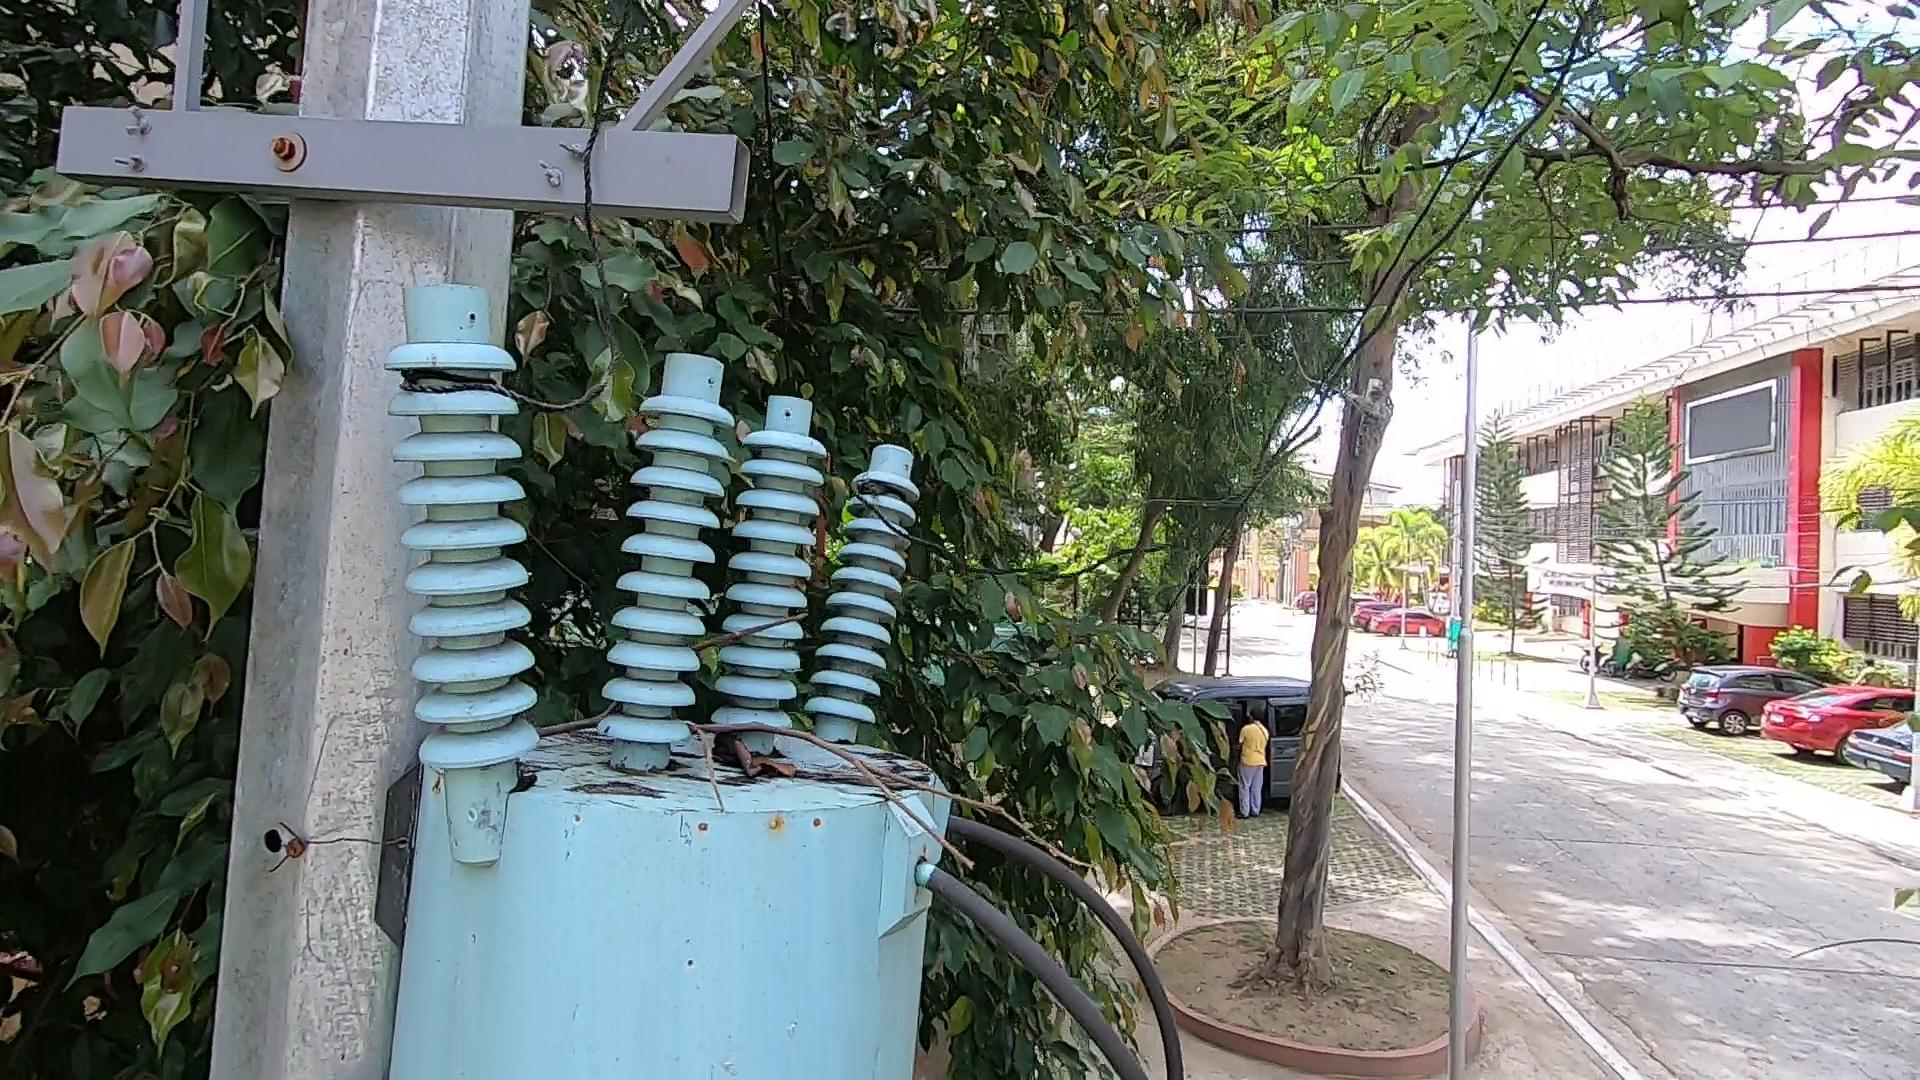leaf: (705, 727, 799, 793)
tree branch: (498, 659, 1095, 914)
